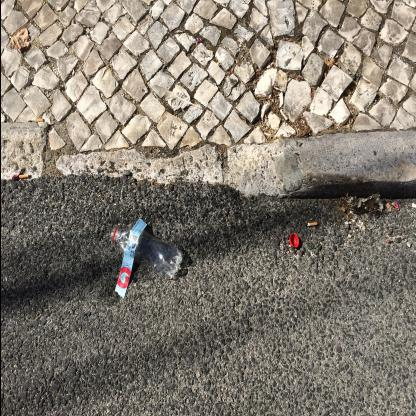diger: (307, 223, 317, 228)
plastik: (110, 220, 183, 300), (289, 235, 299, 249)
